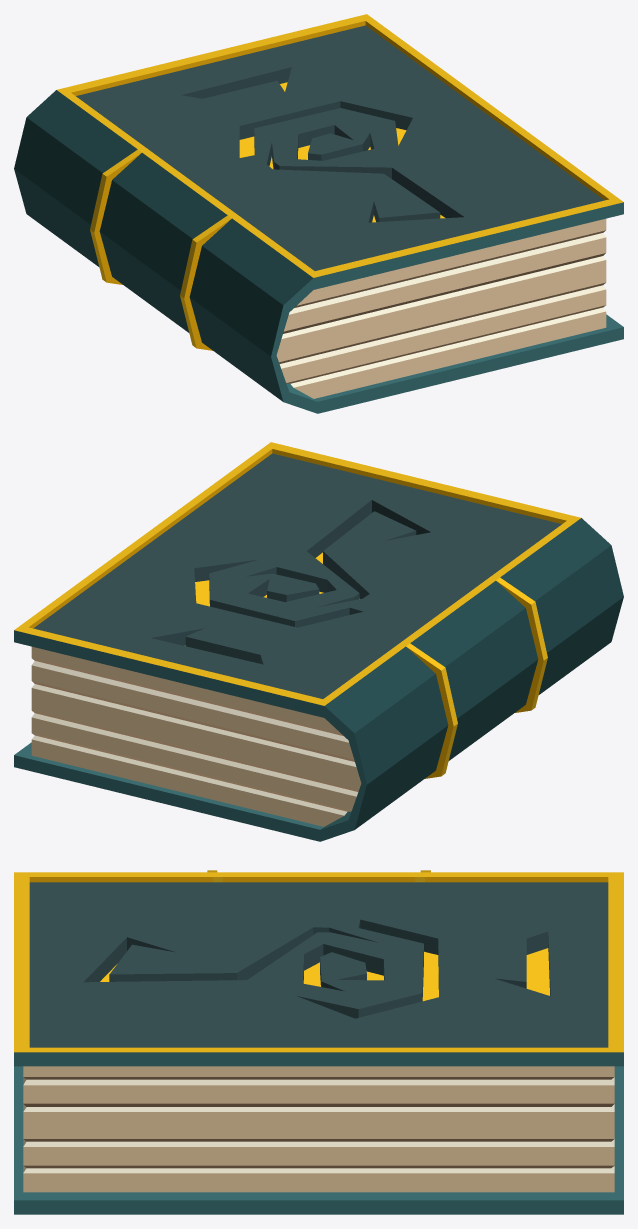
File: Book_02.glb
3 renders of one model, top to bottom at view 1: azimuth 30°, elevation 25°; view 2: azimuth 150°, elevation 25°; view 3: azimuth 270°, elevation 25°, orthographic. The views are drawn at different scales.
Parts seen in each view (by area): view 1: Book_02; view 2: Book_02; view 3: Book_02.
Boxes of the visible parts, box(x1,y1,x2,y2) form: Book_02: box(14, 14, 623, 413); Book_02: box(14, 442, 623, 841); Book_02: box(14, 870, 623, 1214).
Size of what is drawn, in the model's own units: 0.3777 by 0.1379 by 0.4692.
2 materials, 2 textured.
